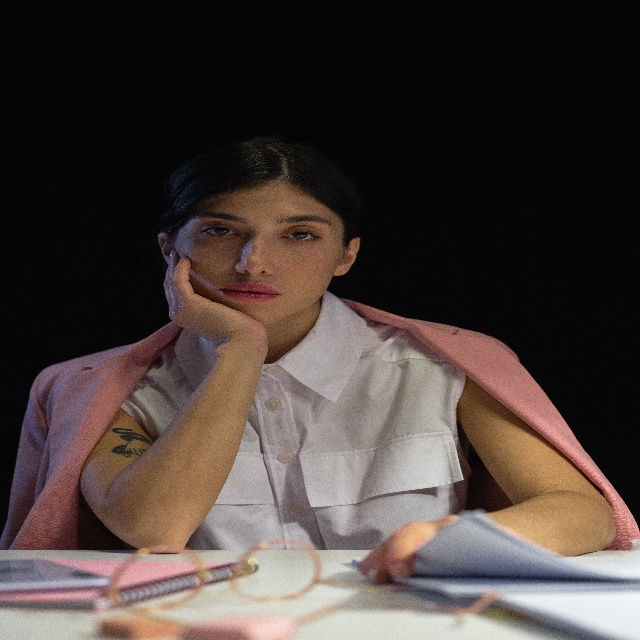Gafas: (108, 538, 321, 613)
Sin_guantes: (163, 247, 268, 357)
